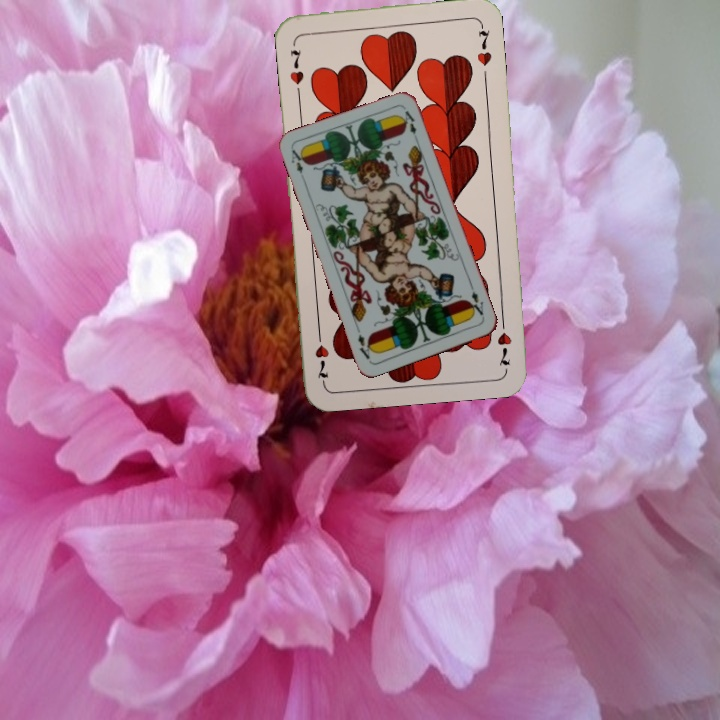EA: (287, 146, 309, 184), (465, 287, 487, 321)
H7: (493, 312, 514, 368), (285, 45, 307, 87)
